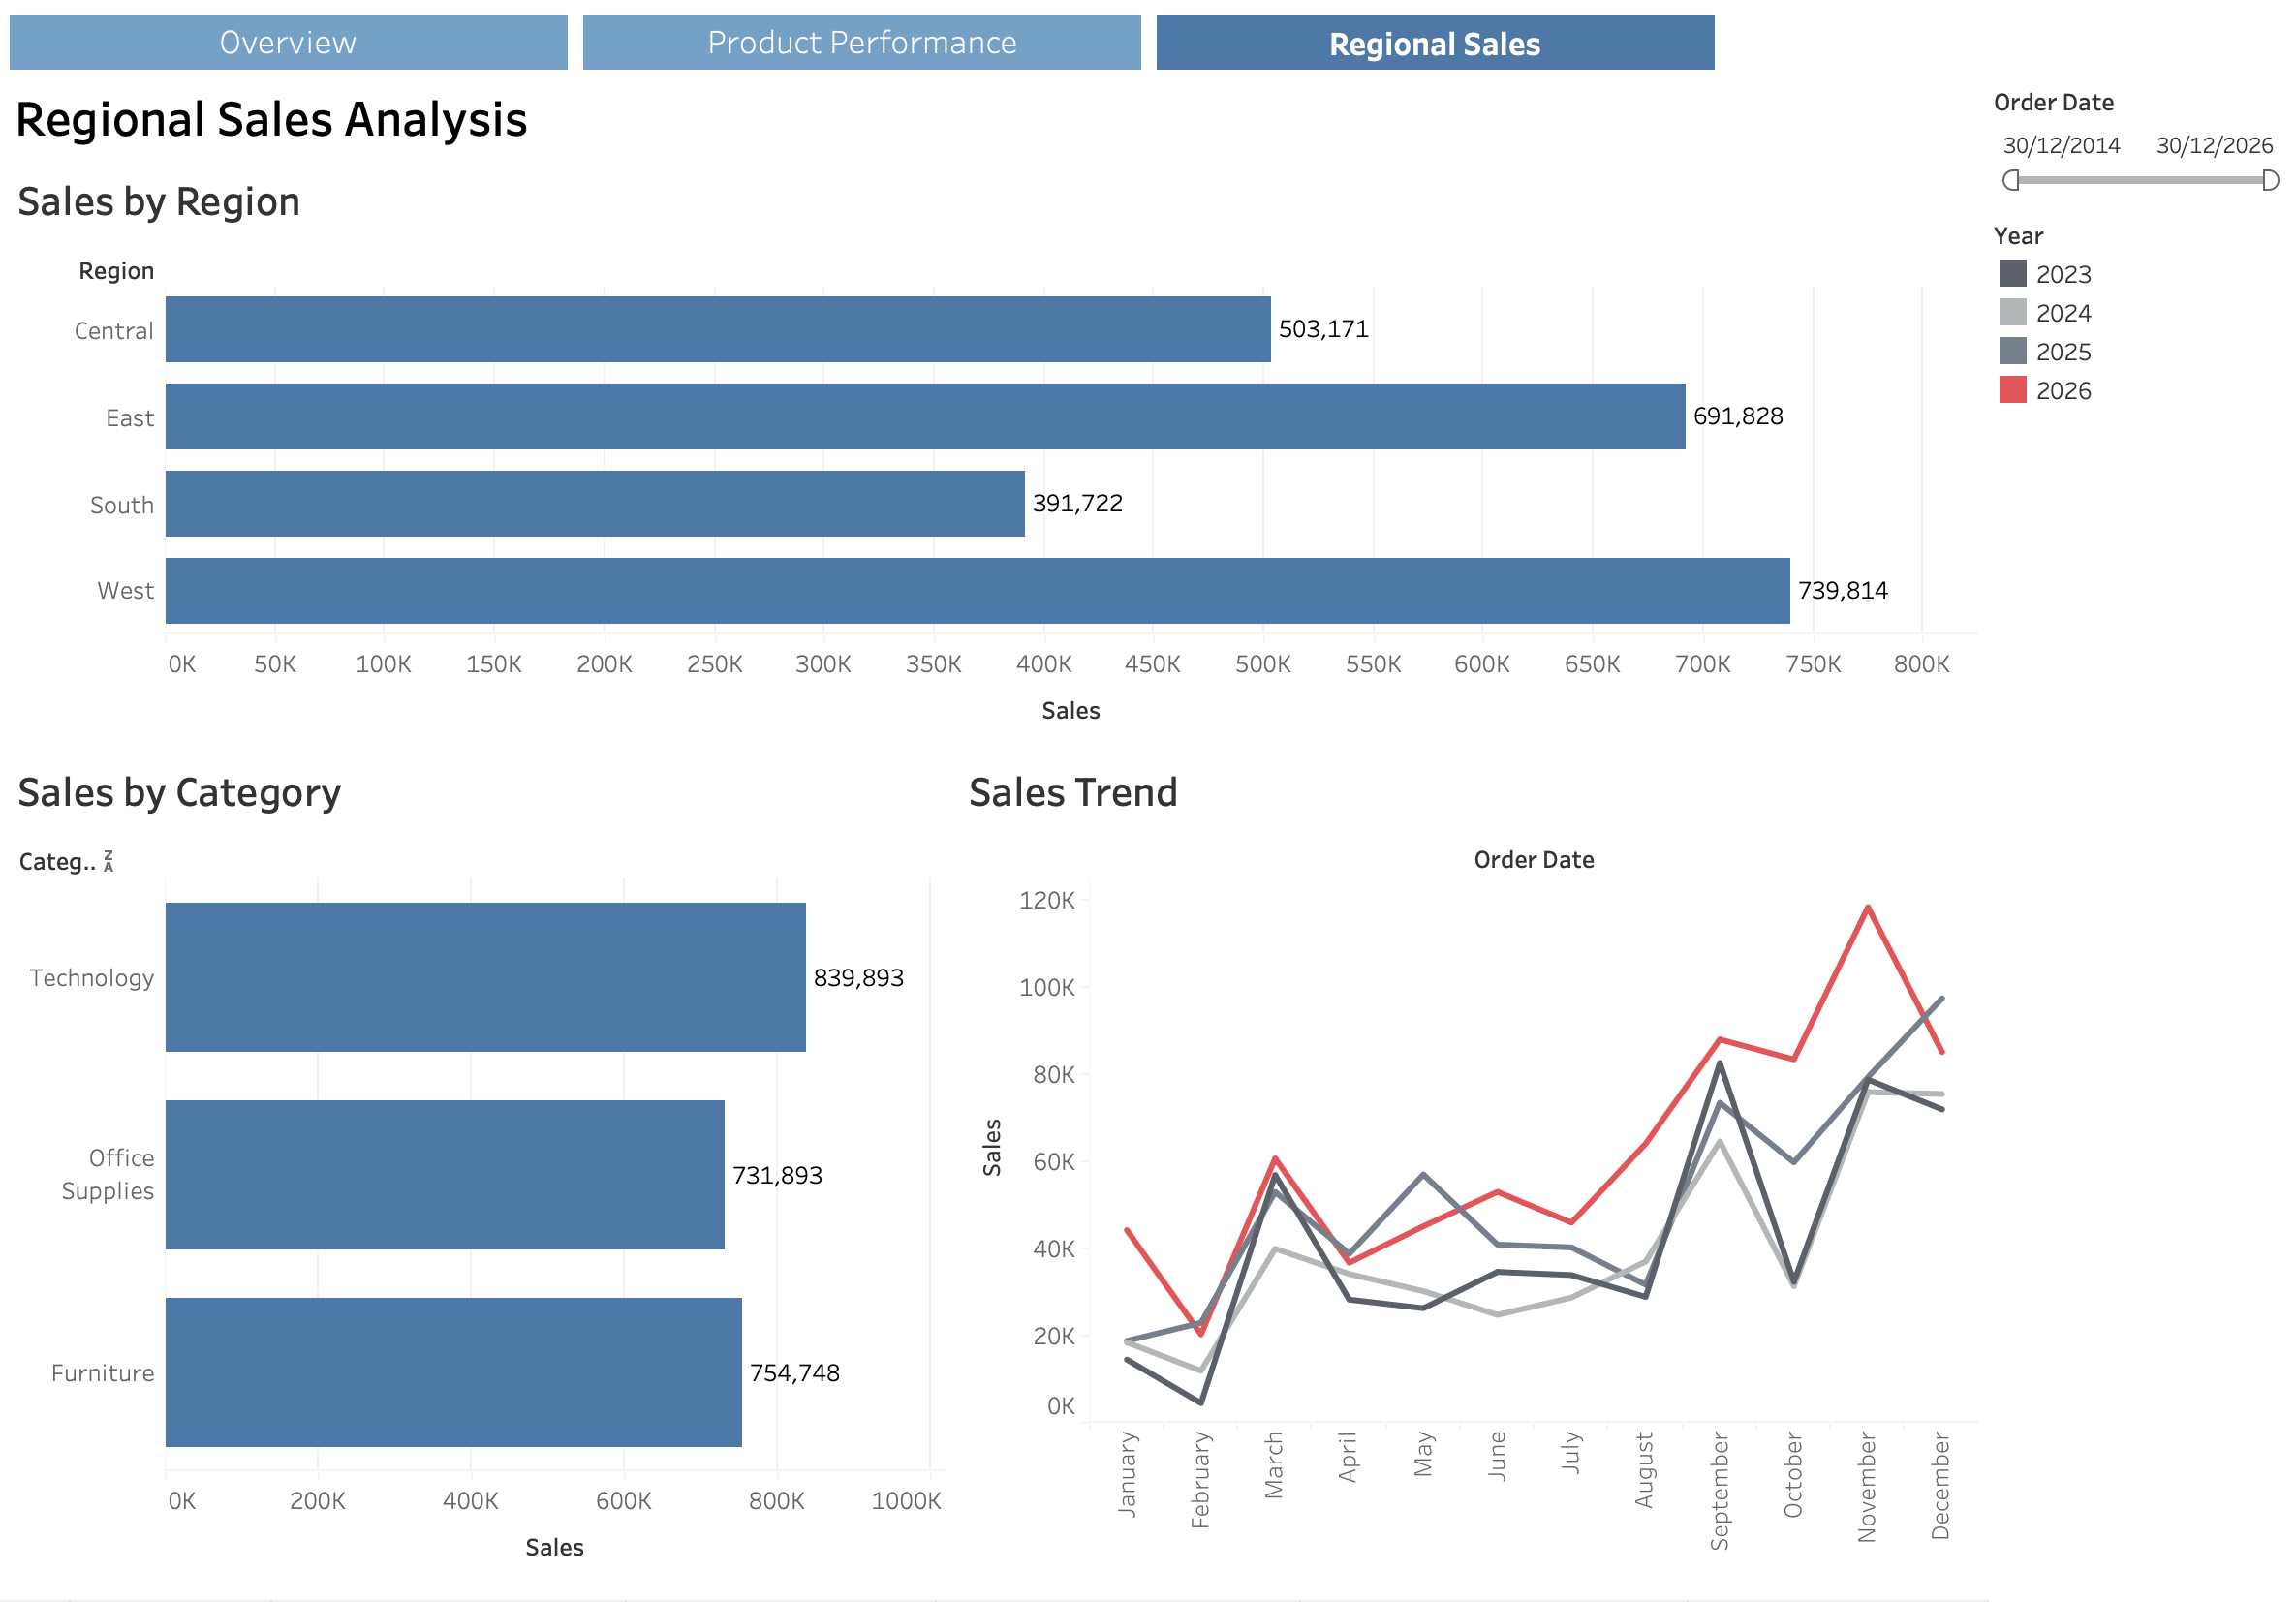

What the dashboard file says about the page in this screenshot:
{"tool":"tableau","page":{"name":"Regional Sales Analysis","canvas":[1000,1000],"units":"permille","ordinal":1},"visuals":[{"type":"dashboard-object","box":[6.7,10.4,246.7,42.9]},{"type":"dashboard-object","box":[253.3,10.4,246.7,42.9]},{"type":"dashboard-object","box":[500,10.4,246.7,42.9]},{"type":"text","box":[6.7,53.3,853.3,53.3]},{"type":"filter","title":"Sales Trend","param":"[federated.0lyn5p717q66wp136qmw91pvss06].[none:Order Date:qk]","box":[860,53.3,133.3,89.7]},{"type":"worksheet","title":"Sales by Region","mark":"Automatic","rows":["Region"],"cols":["Sales"],"box":[6.7,106.6,853.3,321.2]},{"type":"legend","title":"Sales Trend","param":"[federated.0lyn5p717q66wp136qmw91pvss06].[yr:Order Date:ok]","box":[860,143,133.3,137.8]},{"type":"worksheet","title":"Sales by Category","mark":"Automatic","rows":["Category"],"cols":["Sales"],"box":[6.7,427.8,409.2,561.8]},{"type":"worksheet","title":"Sales Trend","mark":"Line","rows":["Sales"],"cols":["Order Date"],"box":[415.8,427.8,444.2,561.8]}]}

Visuals, with their boxes on the dashboard's canvas, which has no fixed pixel size, in thousandths of its width and height (x1, y1, x2, y2). These are canvas units, not pixel positions in the 2296x1602 screenshot, which may show the page scaled, cropped or inside an application window:
dashboard-object: 7/10/253/53
dashboard-object: 253/10/500/53
dashboard-object: 500/10/747/53
text: 7/53/860/107
"Sales Trend" filter: 860/53/993/143
"Sales by Region" worksheet: 7/107/860/428
"Sales Trend" legend: 860/143/993/281
"Sales by Category" worksheet: 7/428/416/990
"Sales Trend" worksheet (Line marks): 416/428/860/990
